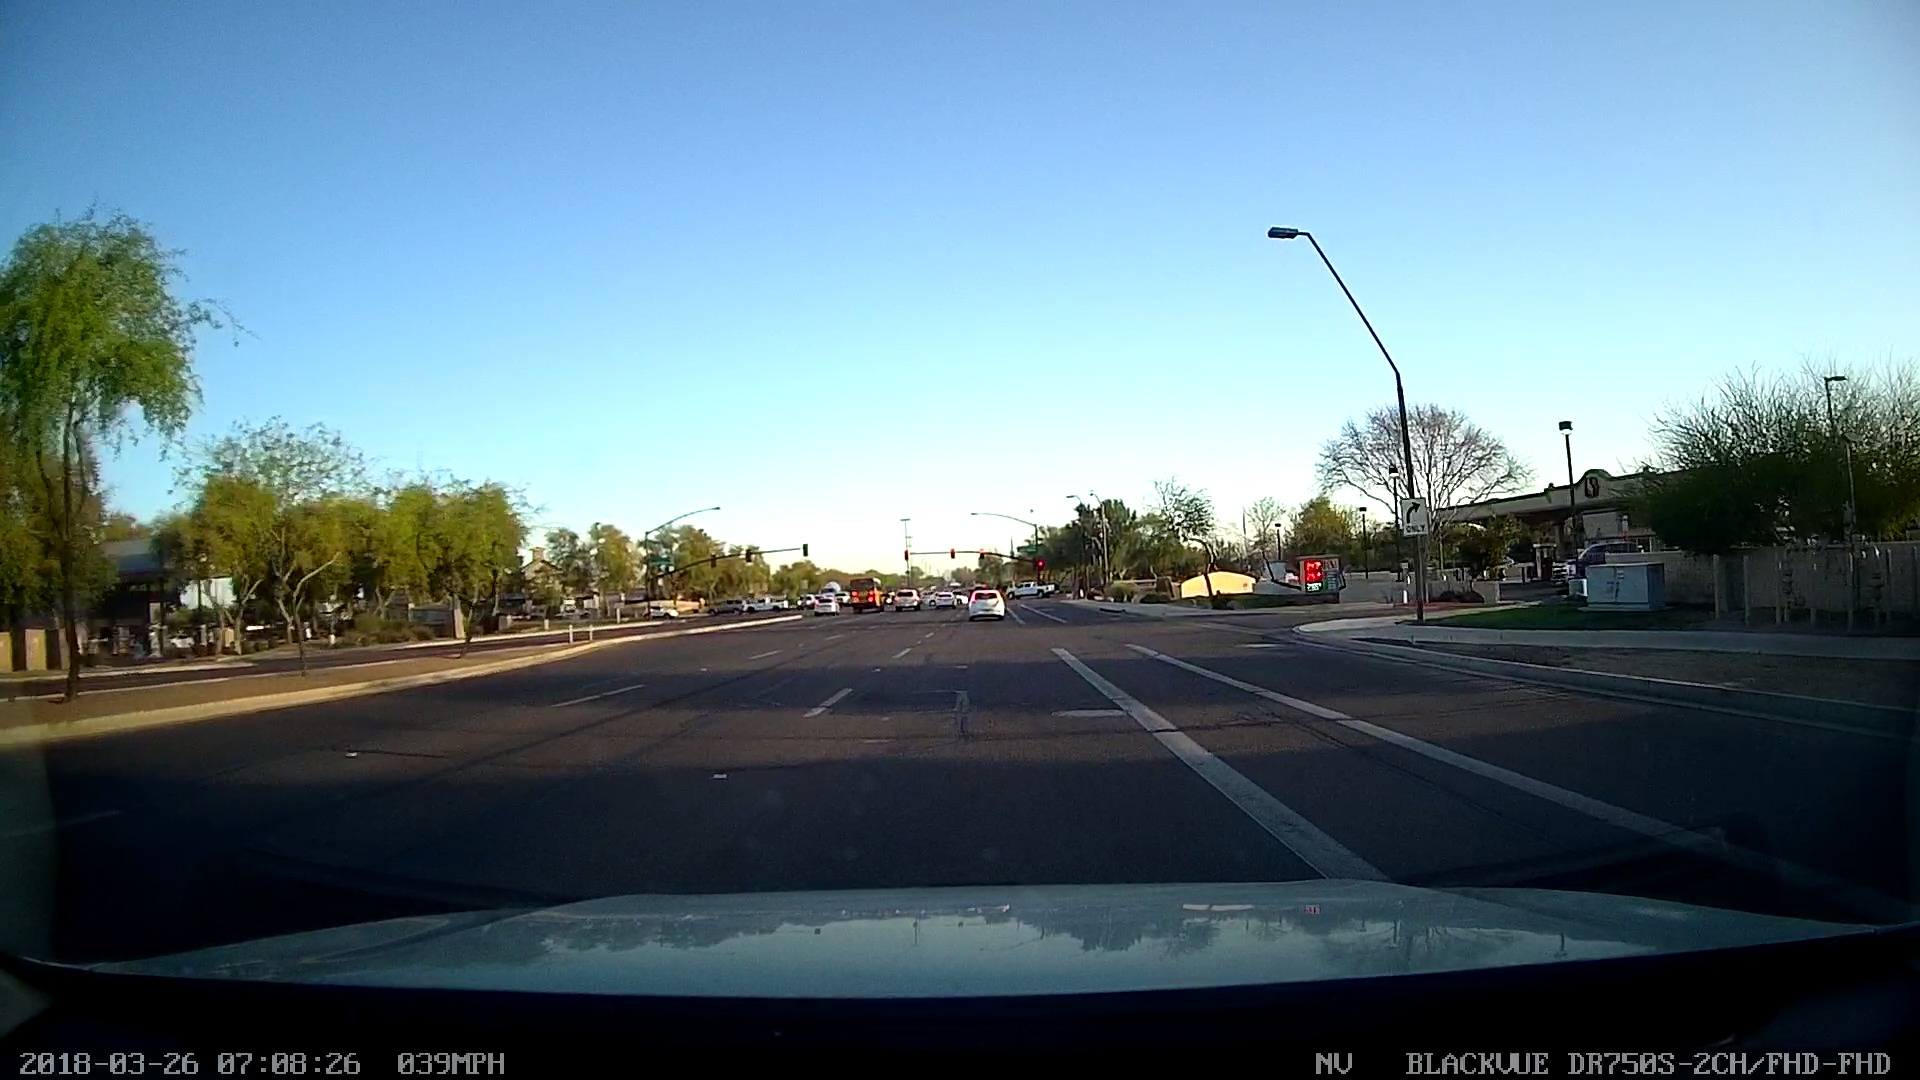vehicle: (957, 580, 1011, 622)
